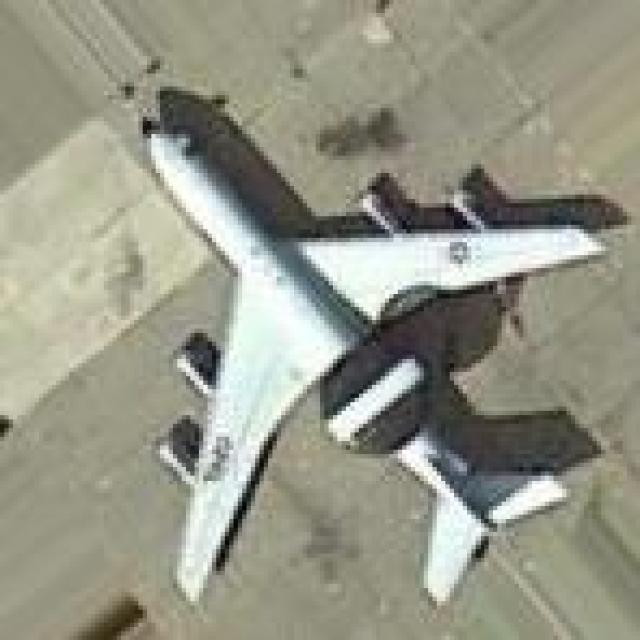E-3_TopDown: (117, 73, 622, 610)
